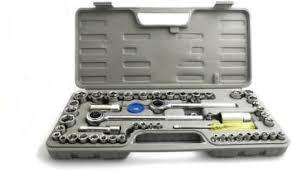wrench: (84, 108, 203, 124), (147, 98, 237, 113)
